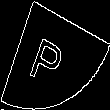P_NE: (34, 24, 76, 86)
